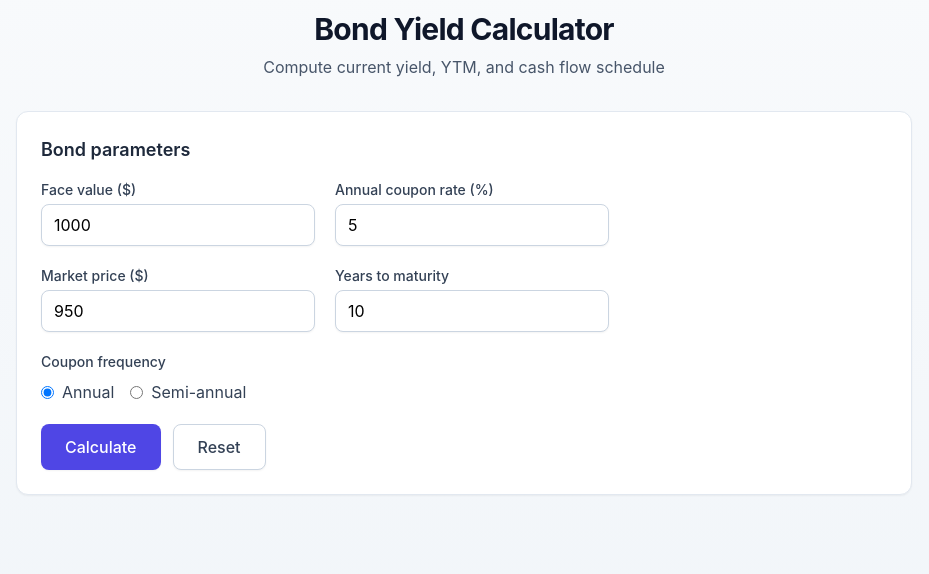
App › shows error message when calculateBond fails
Click the button "Calculate". click: click(101, 447)
box: [41, 424, 160, 470]
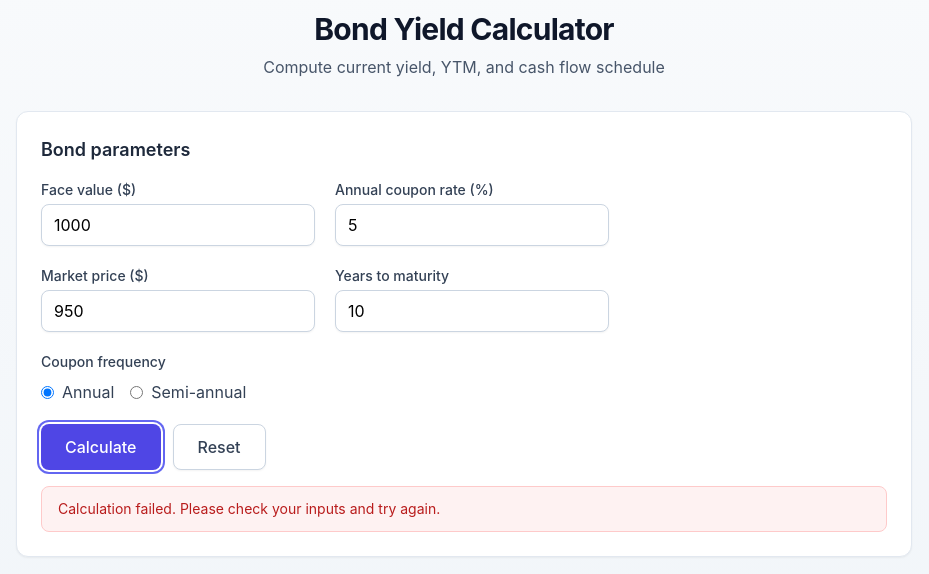
Check: the message reads "Calculation failed. Please check your inputs and try again.", box [58, 500, 440, 517]
